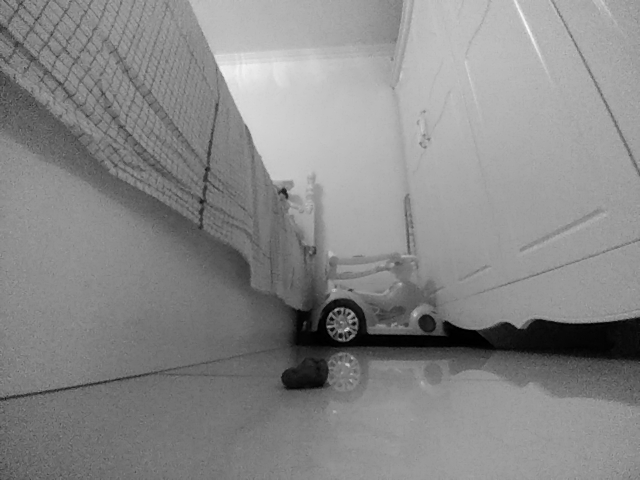pet feces: (282, 356, 328, 389)
